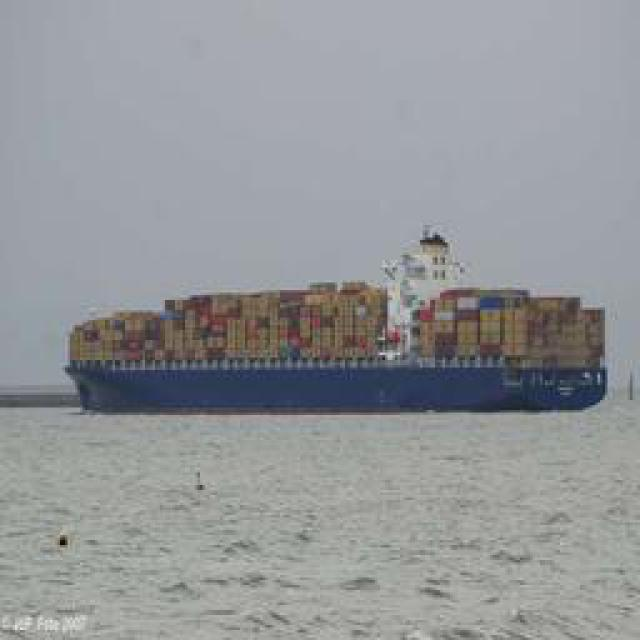Ship: (65, 283, 600, 418)
